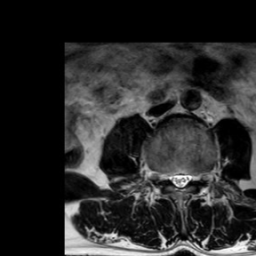CCS_severe_stenosis: (176, 164, 183, 197)
LFS_stenosis: (191, 163, 200, 187)
LLS_stenosis: (183, 165, 191, 190)
RFS_normal: (159, 161, 168, 188)
RLS_normal: (168, 165, 176, 190)
